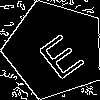E: (30, 25, 87, 81)
